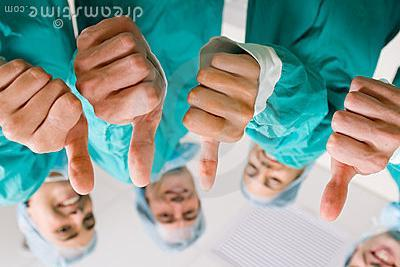thumbsdown: (71, 14, 168, 190), (0, 54, 95, 197), (318, 75, 399, 224), (182, 49, 262, 191)
